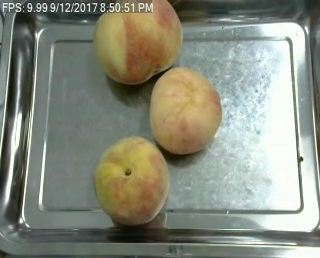Peach: (93, 0, 181, 85), (92, 135, 169, 225), (149, 66, 222, 154)
